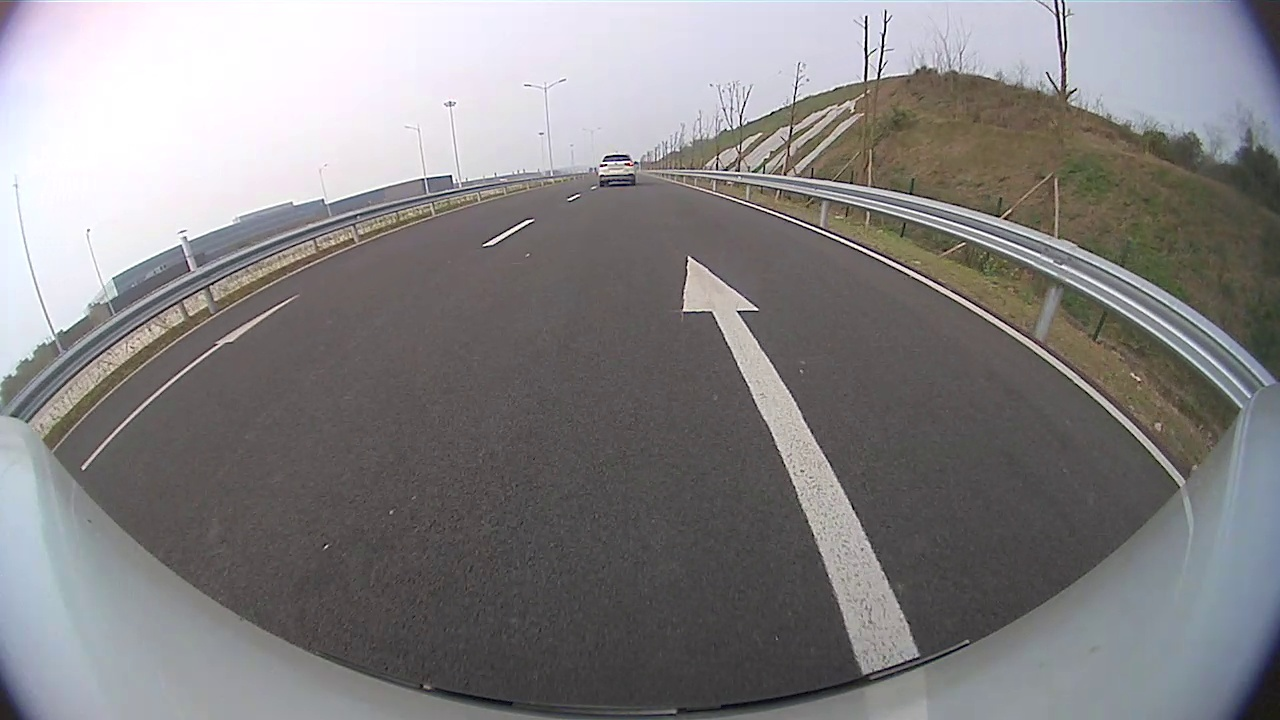car: (597, 153, 637, 187)
